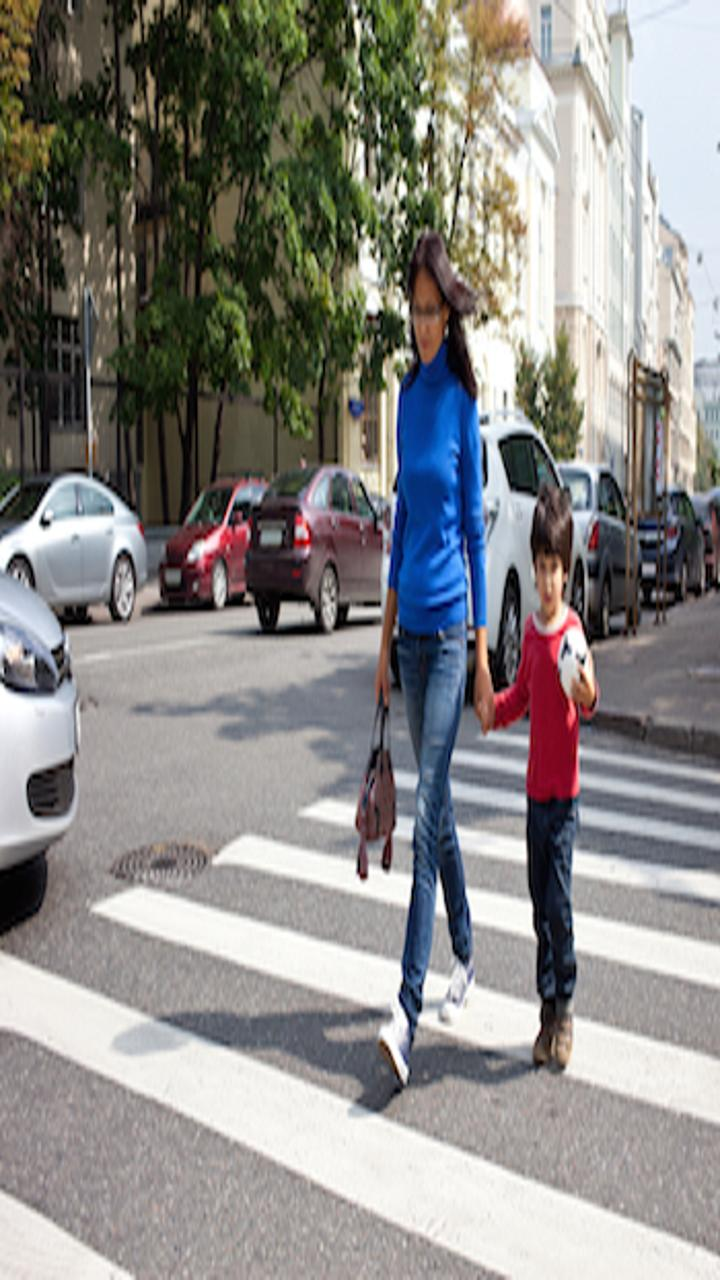pedestrian: (356, 228, 483, 1112), (491, 471, 612, 1093)
vehicle: (1, 587, 108, 892), (239, 452, 399, 643), (1, 461, 163, 621)
